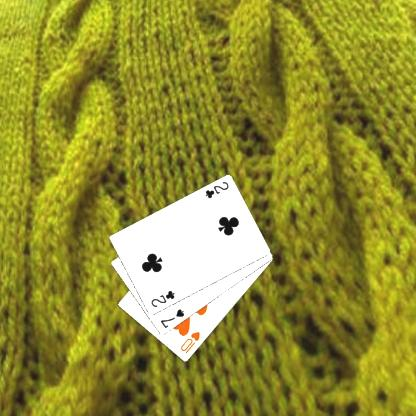10H: (178, 329, 201, 355)
2C: (148, 288, 176, 309), (202, 179, 230, 200)
7S: (158, 306, 186, 330)
